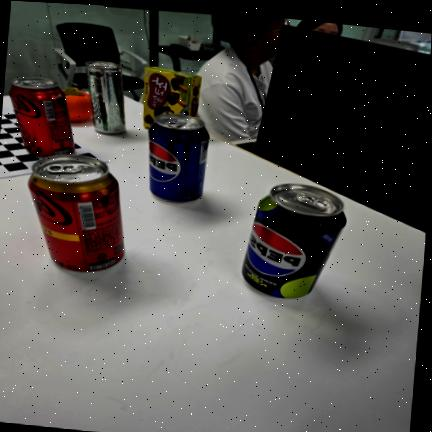can_coke_decaf: (28, 155, 125, 272)
can_coke_zero: (10, 78, 75, 156)
can_pepsi: (149, 113, 209, 202)
can_pepsi_zero: (242, 184, 346, 298)
